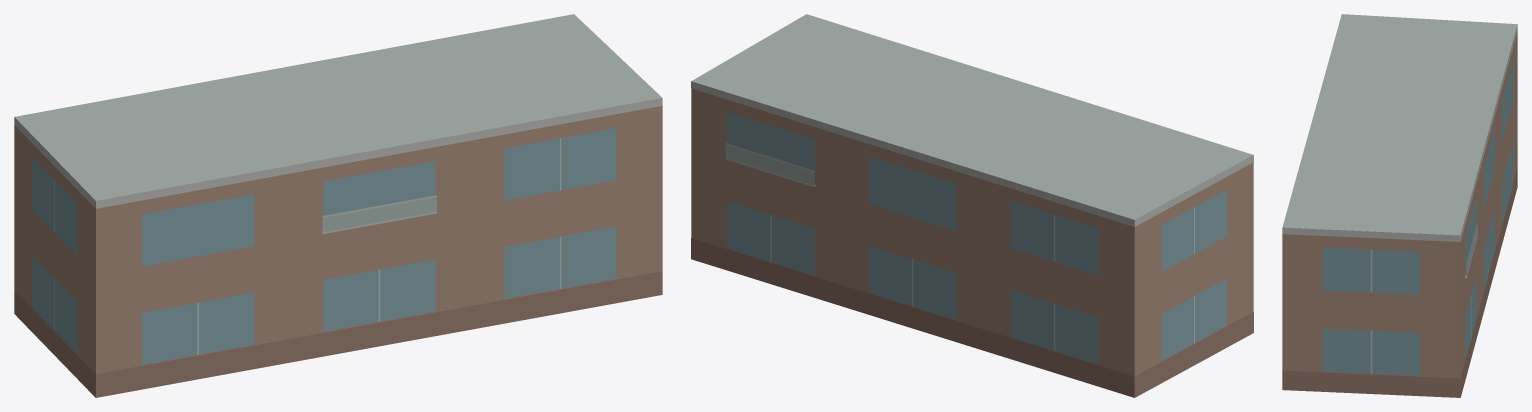
File: survey-upis-32668914.glb
The picture shows the model from 3 angles, left to right: view 1: azimuth 30°, elevation 25°; view 2: azimuth 150°, elevation 25°; view 3: azimuth 270°, elevation 25°; orthographic projection. The views are drawn at different scales.
Parts seen in each view (by area): view 1: survey-upis-32668914.tmp; view 2: survey-upis-32668914.tmp; view 3: survey-upis-32668914.tmp.
Part boxes in pixels (box(x1,y1,x2,y2)): survey-upis-32668914.tmp: box(14, 14, 662, 397); survey-upis-32668914.tmp: box(691, 14, 1253, 397); survey-upis-32668914.tmp: box(1282, 14, 1517, 397).
Bounding box in the file's own units: 17.86 × 6.1 × 8.02.
